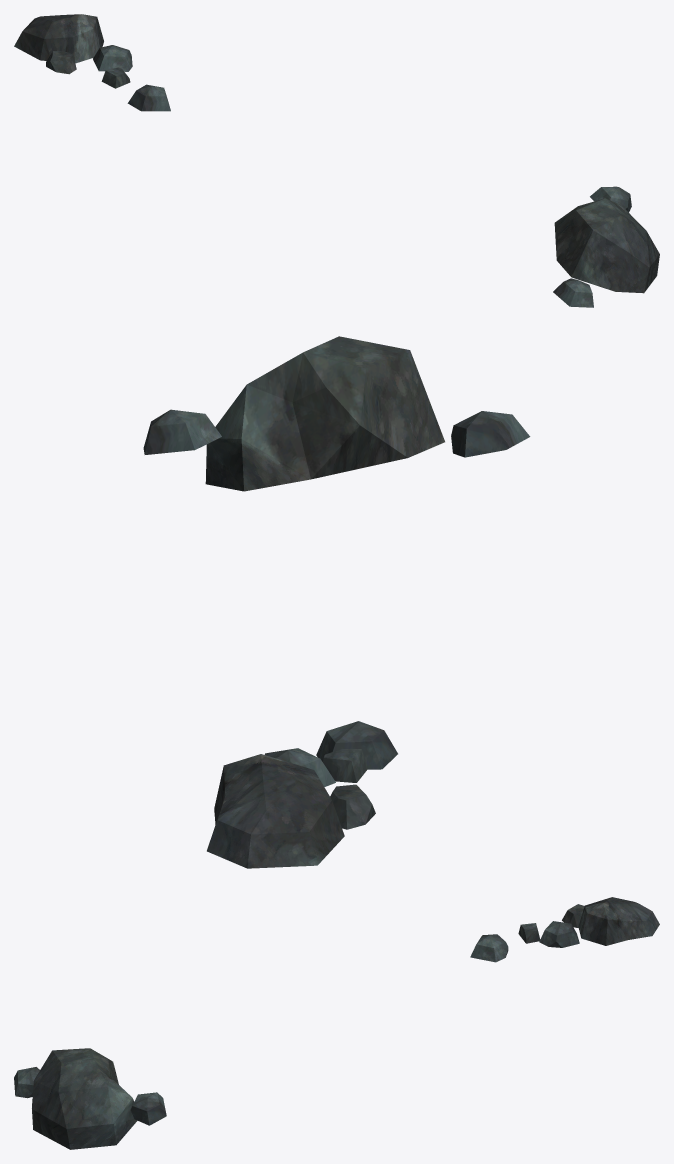
File: object_rubble26.fbx
3 renders of one model, top to bottom at view 1: azimuth 30°, elevation 25°; view 2: azimuth 150°, elevation 25°; view 3: azimuth 270°, elevation 25°, orthographic. The views are drawn at different scales.
Visible parts, largest first — view 1: obj0.100; view 2: obj0.100; view 3: obj0.100.
Boxes of the visible parts, left/top/right/bottom form: obj0.100: left=14, top=14, right=659, bottom=307; obj0.100: left=143, top=336, right=530, bottom=868; obj0.100: left=14, top=897, right=659, bottom=1149.
Size of the model in its own units: 4.35 by 1.44 by 7.35.
